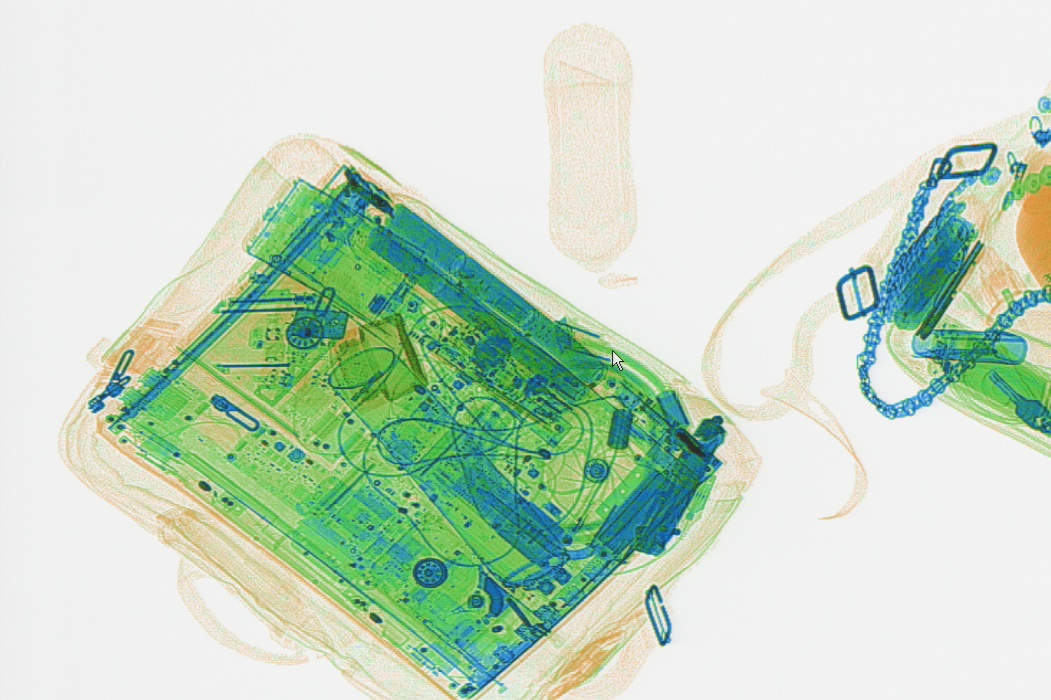knife: (633, 411, 725, 556), (915, 237, 985, 338)
powerbank: (887, 193, 986, 334)
pressure: (328, 344, 573, 591)
